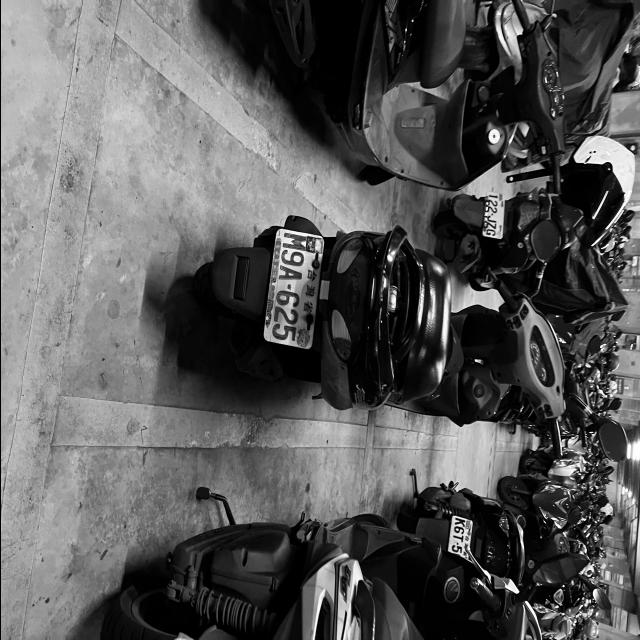-: (286, 283, 292, 291), (490, 213, 492, 216), (455, 543, 458, 545)
1: (488, 194, 498, 198)
2: (271, 305, 299, 327), (487, 200, 497, 207), (487, 207, 497, 213)
5: (270, 323, 297, 343), (450, 544, 461, 554)
6: (274, 288, 300, 309), (452, 526, 464, 535)
9: (280, 249, 305, 268)
A: (278, 264, 303, 285)
G: (485, 228, 495, 238)
J: (486, 215, 496, 224)
K: (453, 517, 465, 528)
M: (281, 232, 307, 252)
T: (452, 534, 463, 543)
Z: (485, 222, 496, 230)
plate: (263, 229, 322, 347), (482, 194, 504, 238)
